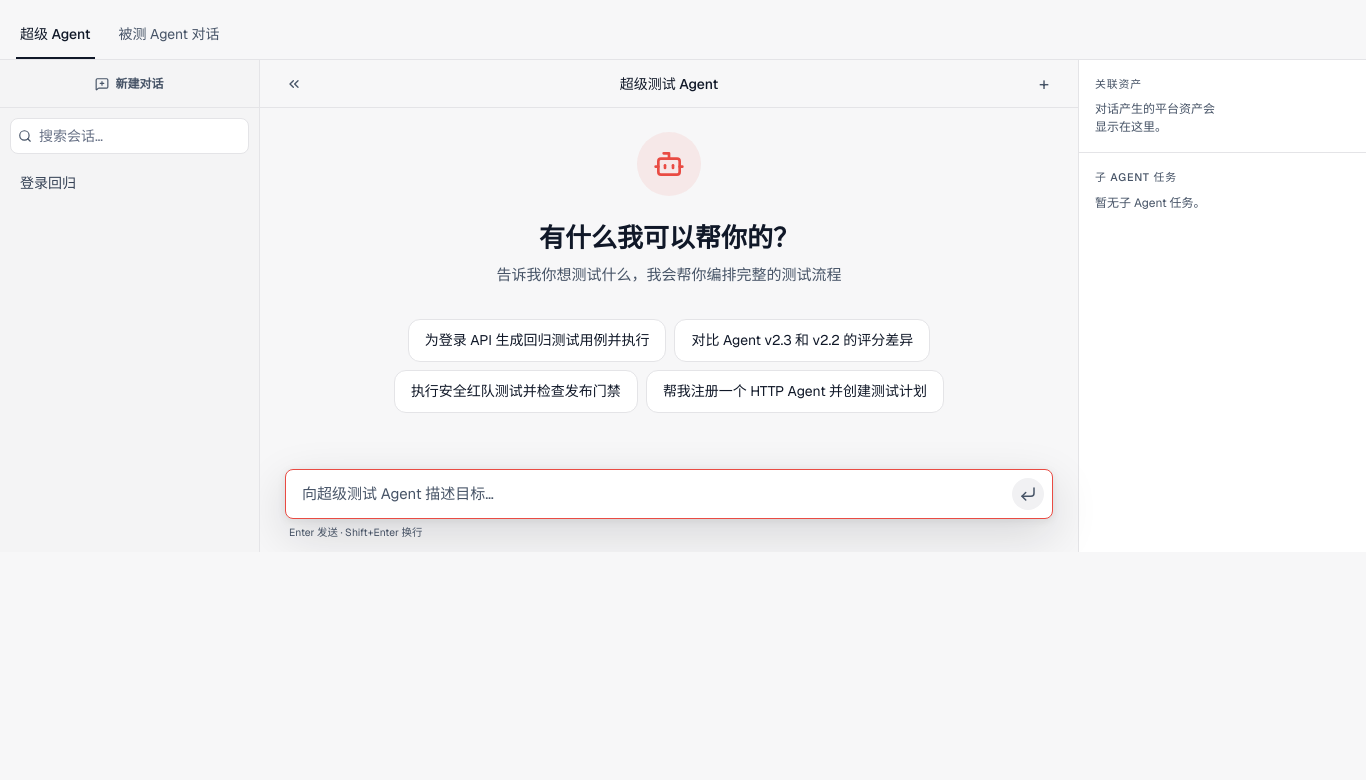
restores a persisted session from project history
Expected: the text "登录回归" is shown, [20,174,76,192]
Click the button "登录回归" at {"x": 130, "y": 183}, box [8,164,251,202]
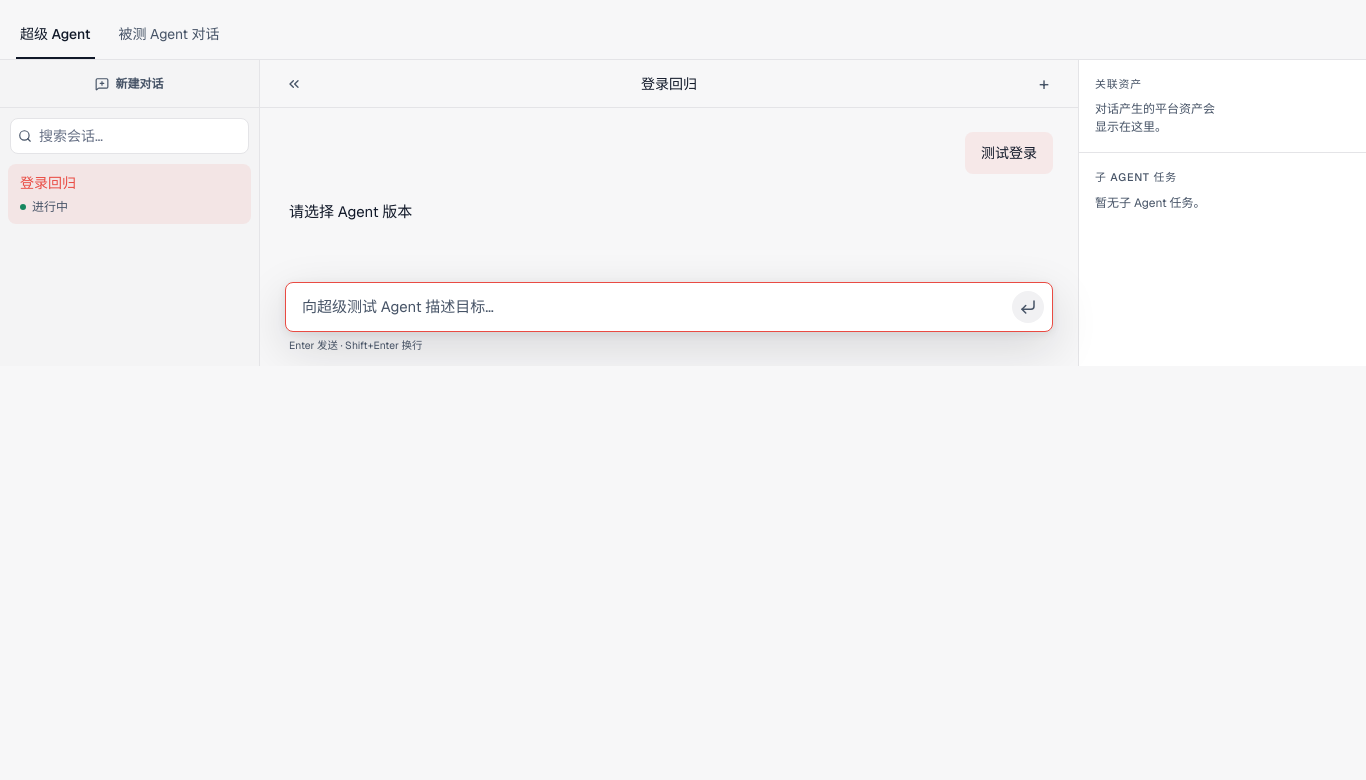
Expected: the text "请选择 Agent 版本" is shown, [289,202,412,221]
